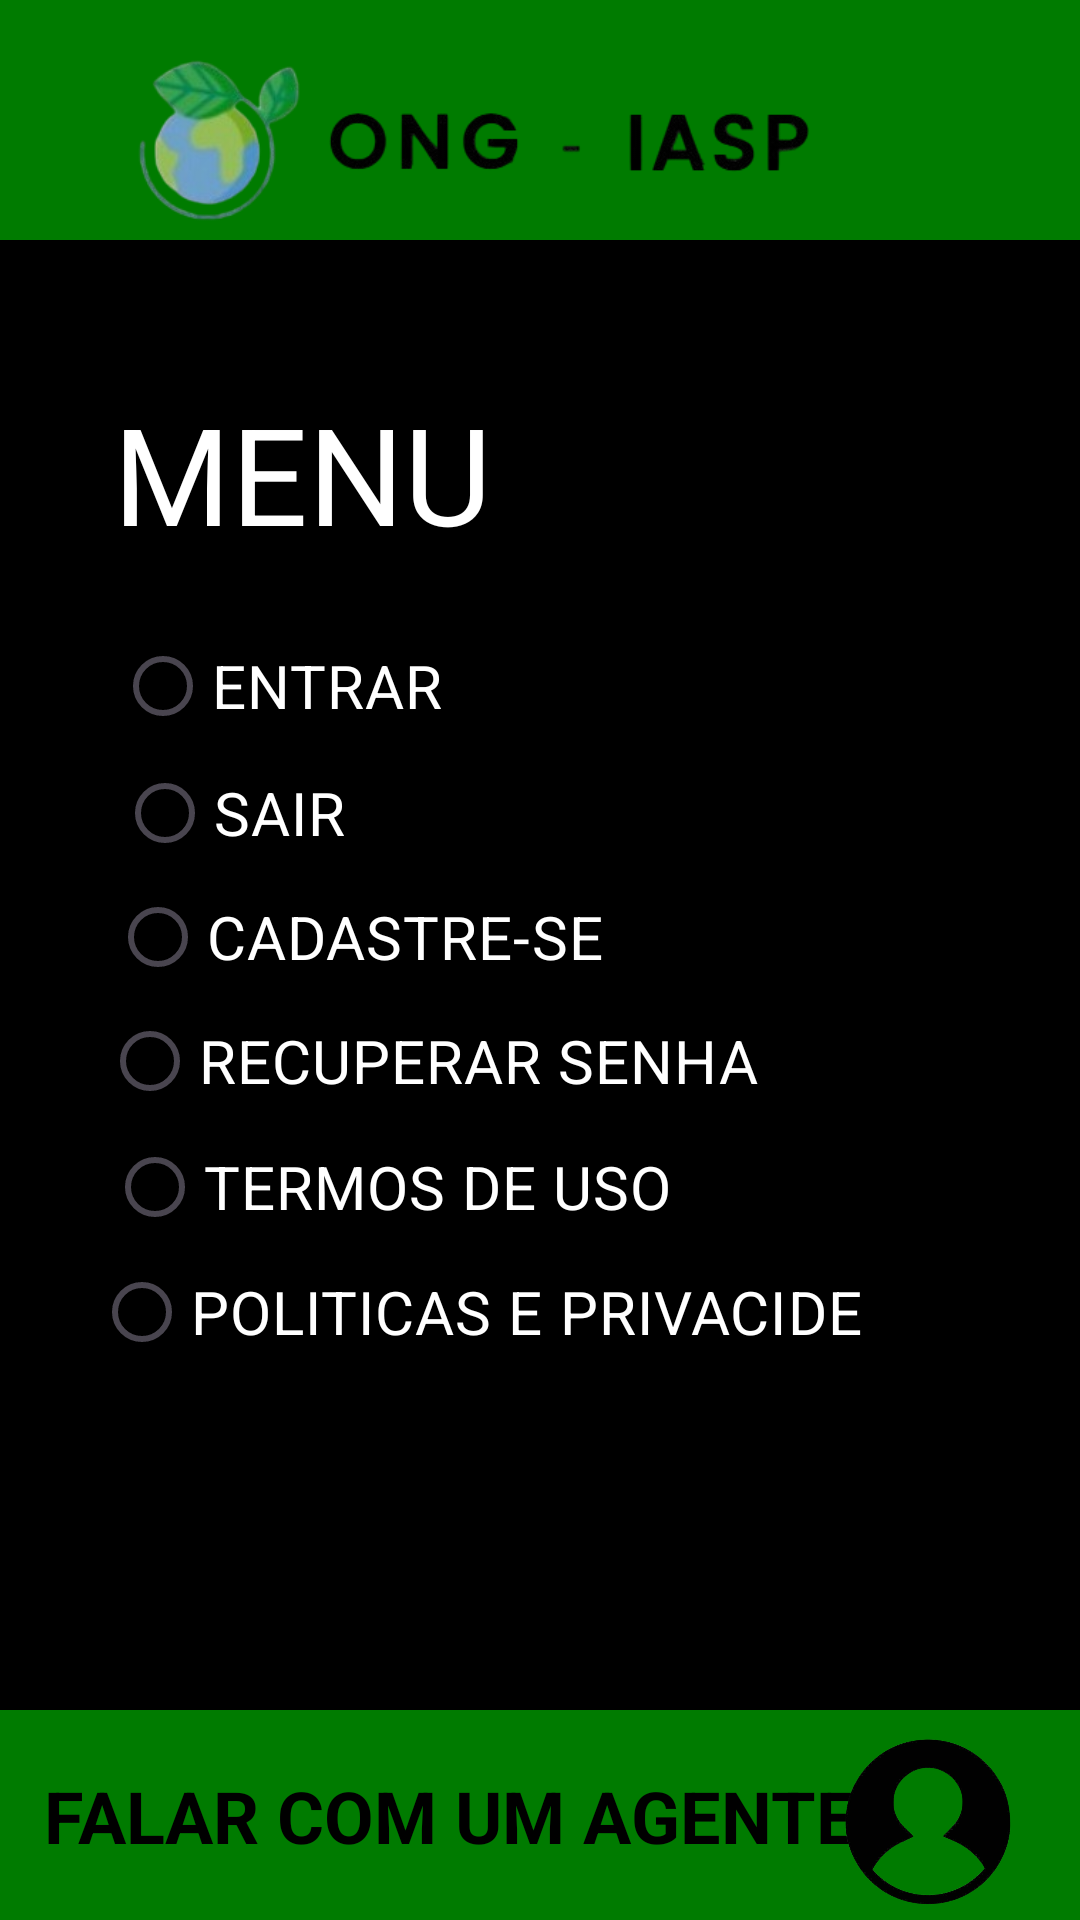

Icons on this 1080*1920 Android screen, each with the point to tap as [x,y]:
iconperfil: [915,1821]
